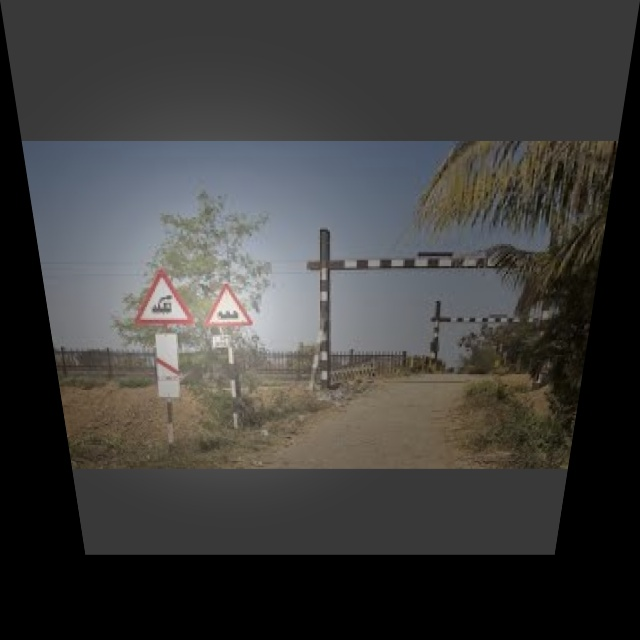Unguarded_Level_Crossing: (131, 261, 194, 331)
